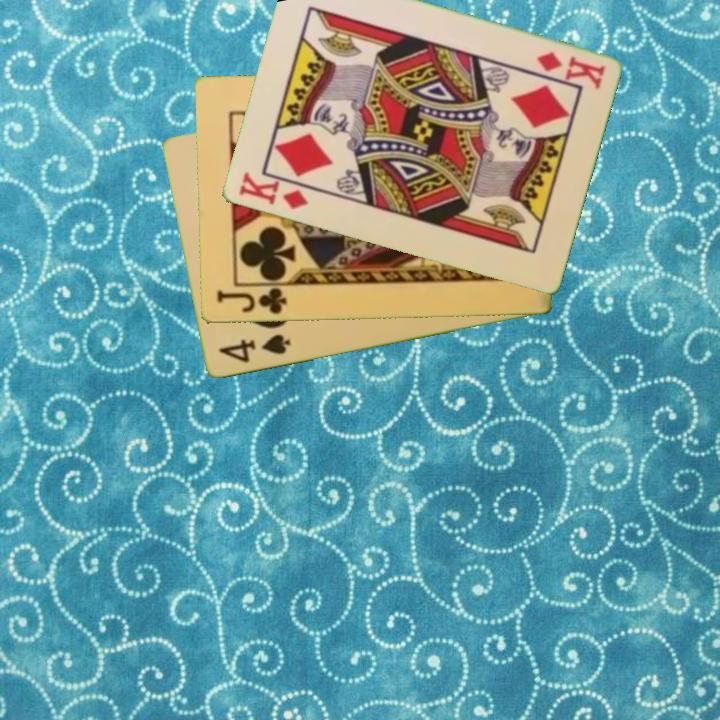4s: (215, 331, 293, 366)
Jc: (212, 285, 290, 318)
Kd: (235, 168, 311, 213), (532, 48, 608, 91)
